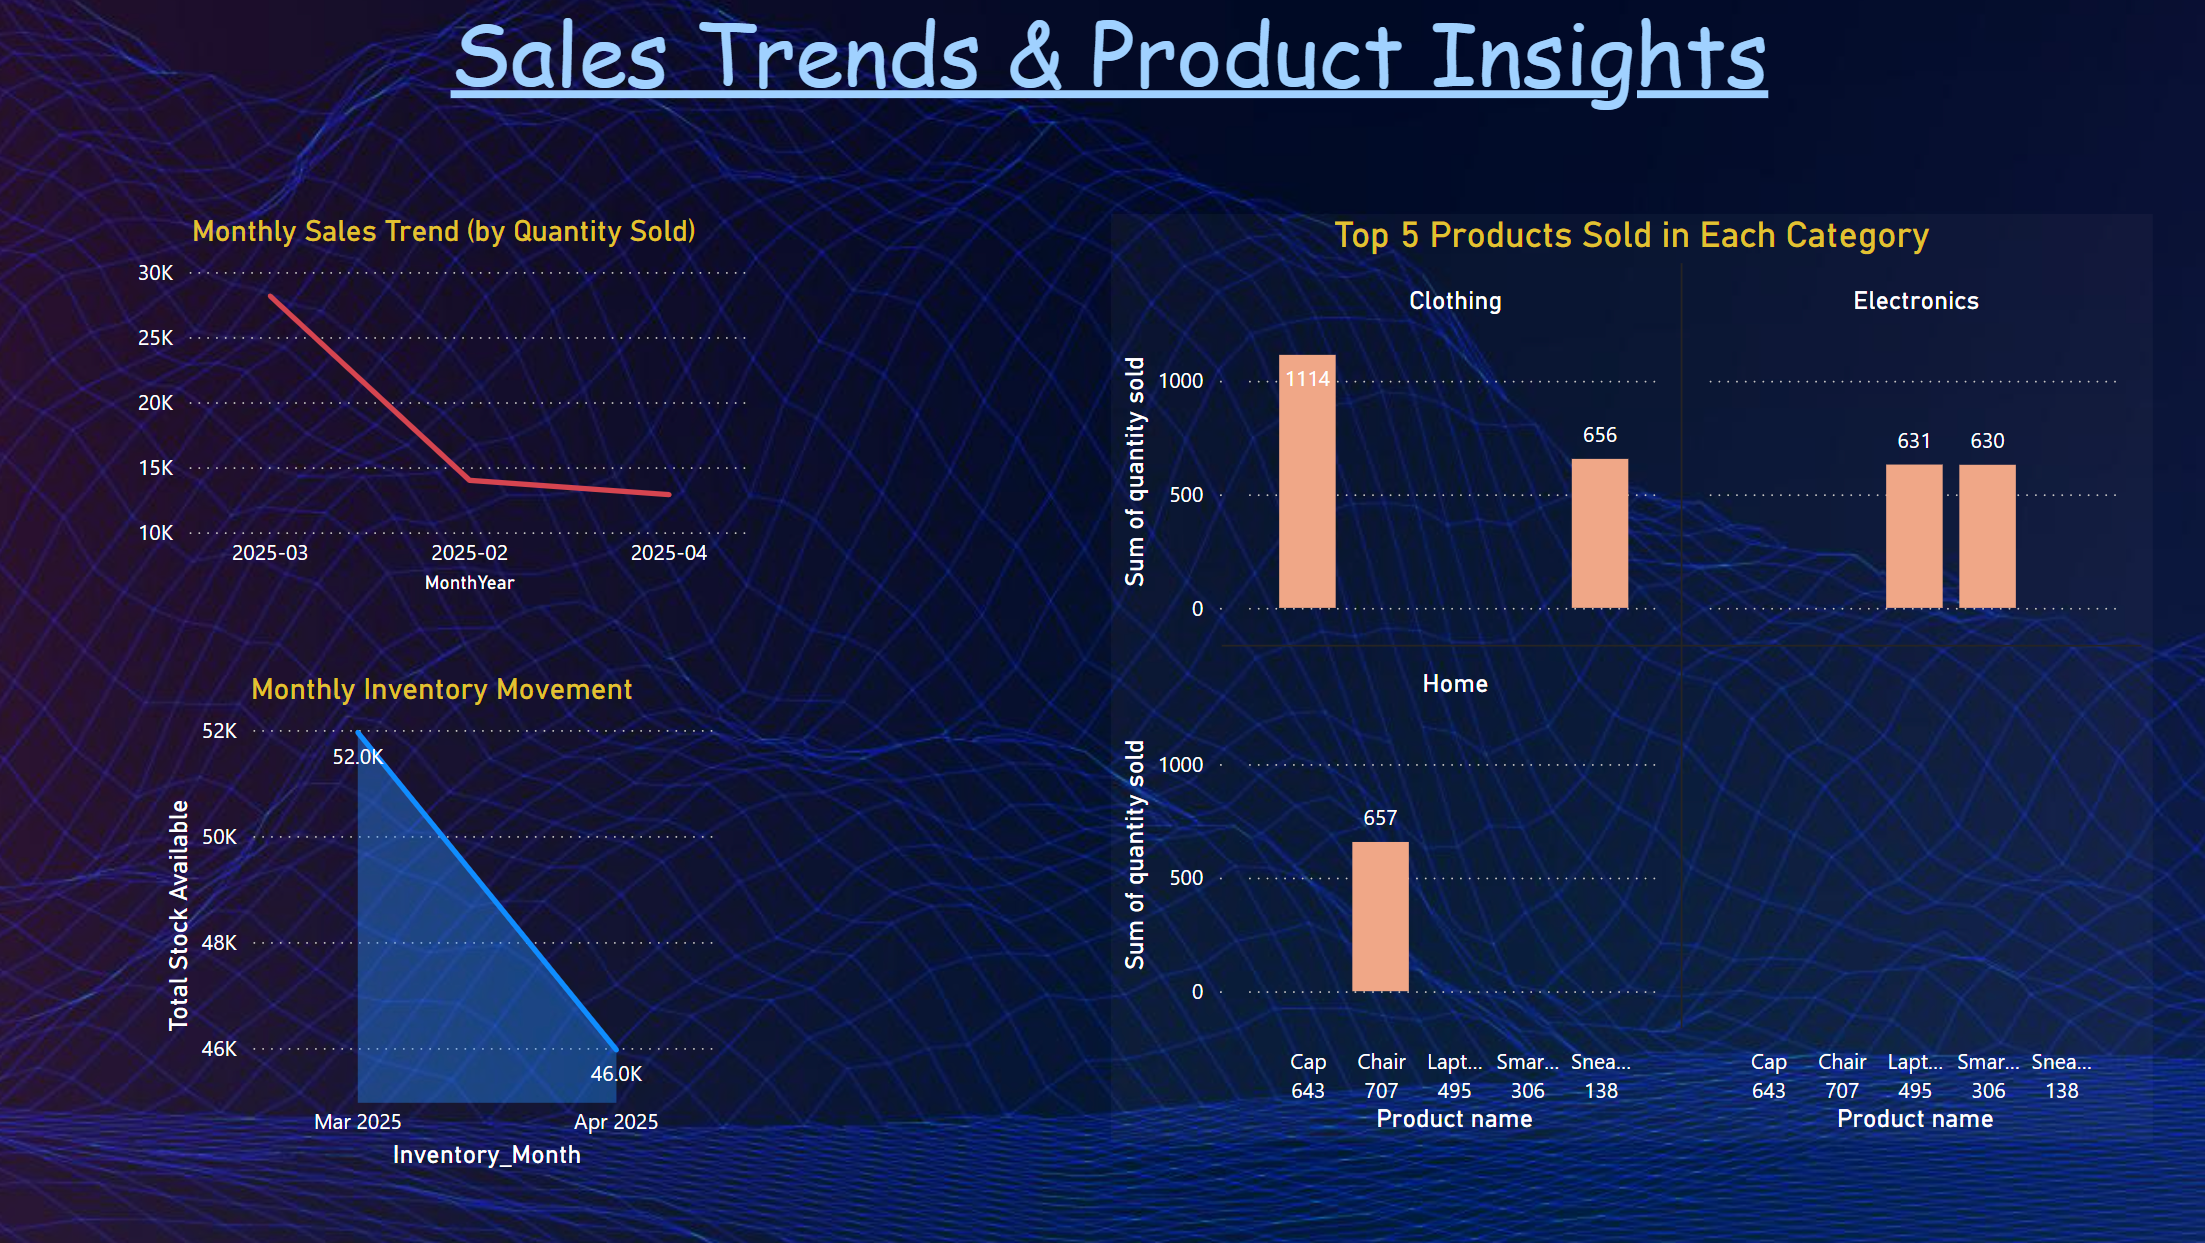

Layout of this report page (visuals, bound fields, positions):
{"tool":"powerbi","page":{"name":"Page 3","canvas":[1280,720],"ordinal":2},"visuals":[{"type":"textbox","title":"Sales Trends & Product Insights","box":[48,0,1188,70],"z":0},{"type":"lineChart","title":"Monthly Sales Trend (by Quantity Sold)","fields":{"Y":["Sum(sales.quantity_sold)"],"Category":["sales.MonthYear"]},"box":[83.8,127.5,357.5,220],"z":1000},{"type":"areaChart","title":"Monthly Inventory Movement","fields":{"Category":["inventory.Inventory_Month"],"Y":["Sum(inventory.stock_on_hand)"]},"box":[98.8,387.5,326.2,287.5],"z":2000},{"type":"clusteredColumnChart","title":"Top 5 Products Sold in Each Category","fields":{"Category":["products.product_name"],"Y":["Sum(sales.quantity_sold)"],"Rows":["products.category"]},"box":[642.5,127.5,592.5,527.5],"z":3000}]}

Visuals, with their boxes in screenshot pixels (x1, y1, x2, y2), scaled from the page's 1280x720 canvas onto the 2205x1243 screenshot:
"Sales Trends & Product Insights" textbox: (left=83, top=0, right=2129, bottom=121)
"Monthly Sales Trend (by Quantity Sold)" lineChart: (left=144, top=220, right=760, bottom=600)
"Monthly Inventory Movement" areaChart: (left=170, top=669, right=732, bottom=1165)
"Top 5 Products Sold in Each Category" clusteredColumnChart: (left=1107, top=220, right=2127, bottom=1131)
